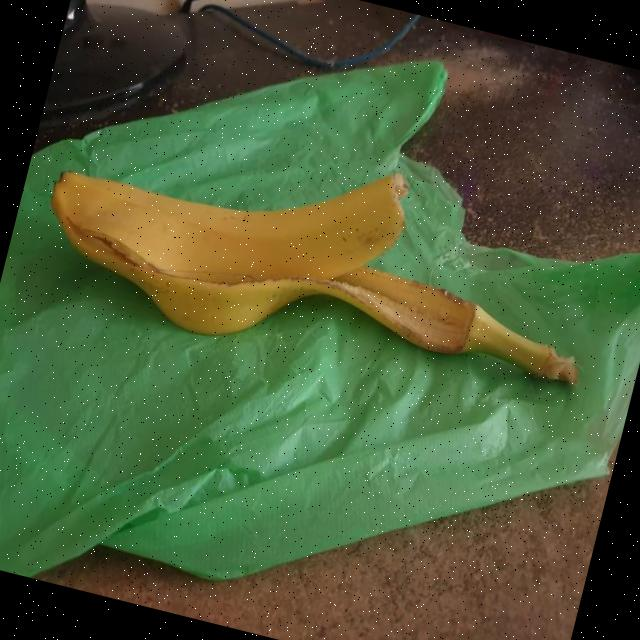banana-peel: (25, 90, 615, 425), (38, 90, 418, 330)
